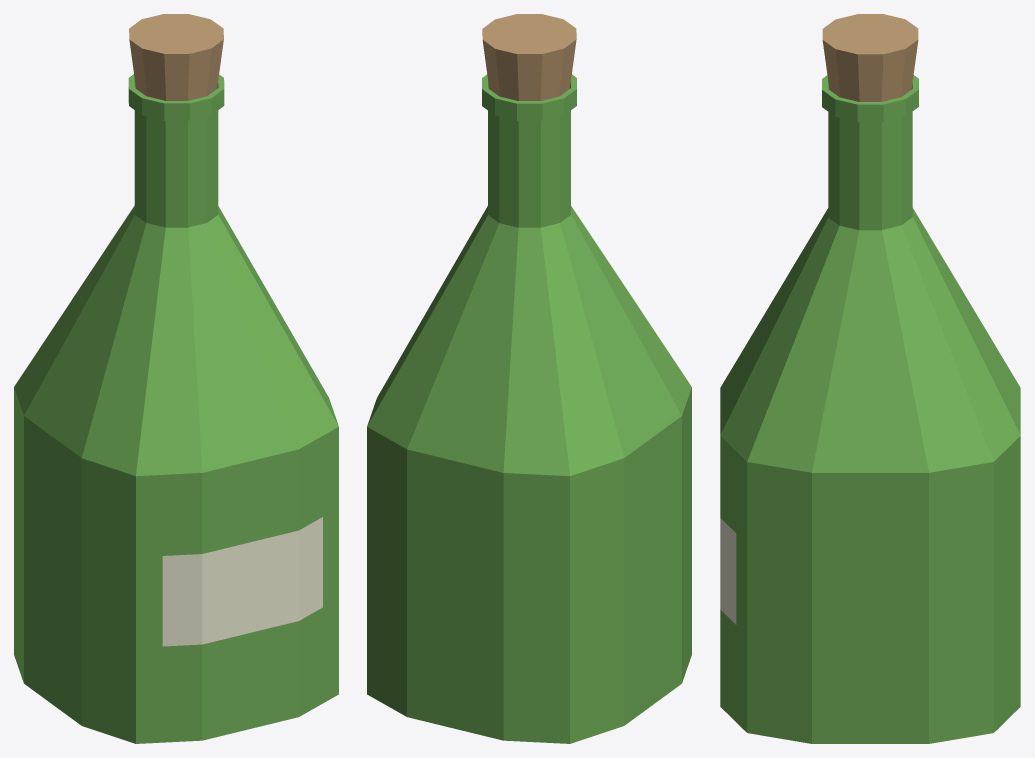
Rendered from potion_green_2.fbx.
3 views of the same model, side by side, from view 1: azimuth 30°, elevation 25°; view 2: azimuth 150°, elevation 25°; view 3: azimuth 270°, elevation 25° (orthographic).
Visible parts, largest first — view 1: potion_green_2; view 2: potion_green_2; view 3: potion_green_2.
Part boxes in pixels (x1=…): potion_green_2: x1=14, y1=14, x2=338, y2=743; potion_green_2: x1=367, y1=14, x2=691, y2=743; potion_green_2: x1=720, y1=14, x2=1020, y2=743.
Size of the model in its own units: 21.3 by 52.72 by 22.13.
